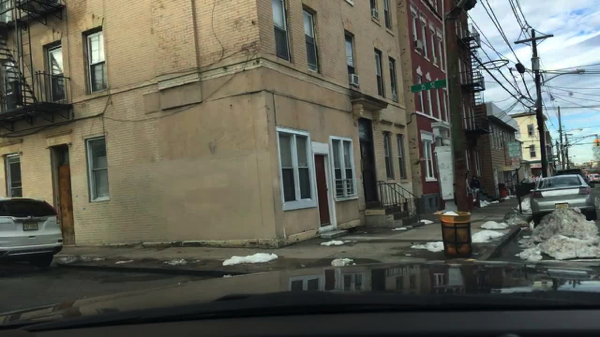car: (1, 197, 63, 268), (527, 176, 594, 226), (552, 169, 586, 183), (588, 171, 599, 182)
person: (470, 176, 478, 191)
traffic light: (594, 140, 599, 147)
traffic sign: (411, 79, 445, 93)
